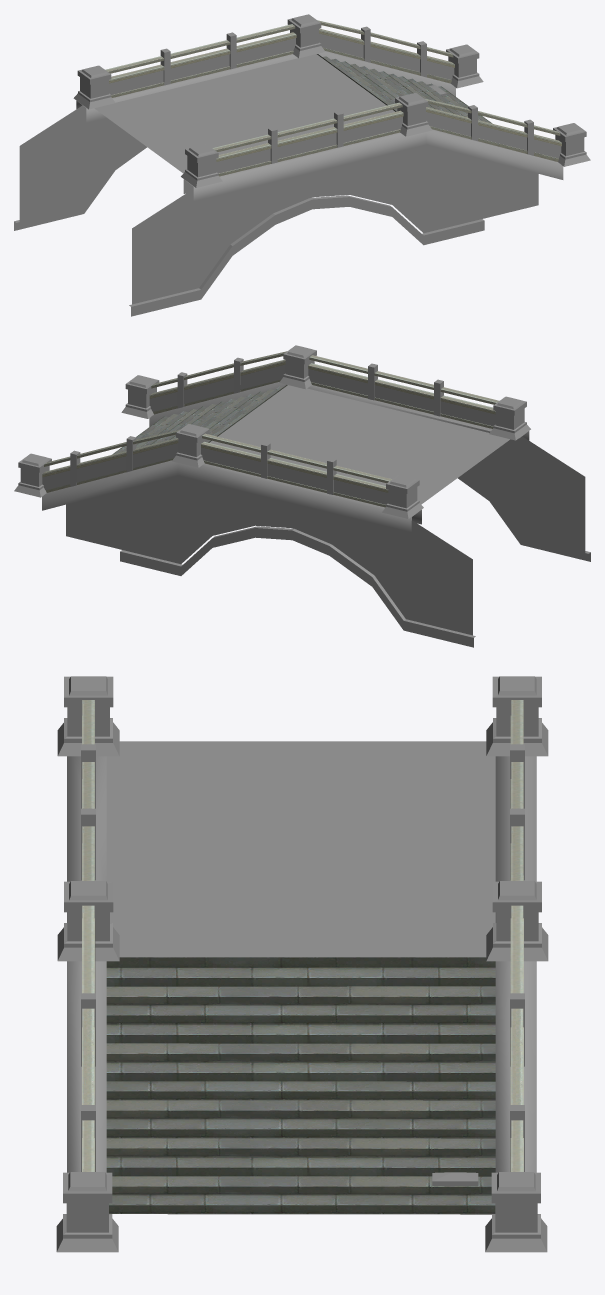
3 renders of one model, top to bottom at view 1: azimuth 30°, elevation 25°; view 2: azimuth 150°, elevation 25°; view 3: azimuth 270°, elevation 25°, orthographic. The views are drawn at different scales.
Visible parts, largest first — view 1: jz_q_01_01, jz_q_01_04, jz_q_01_02, jz_q_01_03; view 2: jz_q_01_01, jz_q_01_04, jz_q_01_02, jz_q_01_03; view 3: jz_q_01_03, jz_q_01_04, jz_q_01_01, jz_q_01_02.
Part boxes in pixels (x1,y1,x2,y2): jz_q_01_01: (14, 14, 590, 316); jz_q_01_04: (94, 54, 395, 173); jz_q_01_02: (105, 20, 561, 176); jz_q_01_03: (317, 54, 492, 123); jz_q_01_01: (14, 345, 590, 647); jz_q_01_04: (209, 385, 509, 504); jz_q_01_02: (42, 351, 499, 507); jz_q_01_03: (112, 385, 287, 454); jz_q_01_03: (106, 957, 495, 1214); jz_q_01_04: (106, 741, 495, 957); jz_q_01_01: (56, 676, 548, 1252); jz_q_01_02: (82, 700, 523, 1171).
Bounding box in the file's own units: 1305 × 404 × 608.
